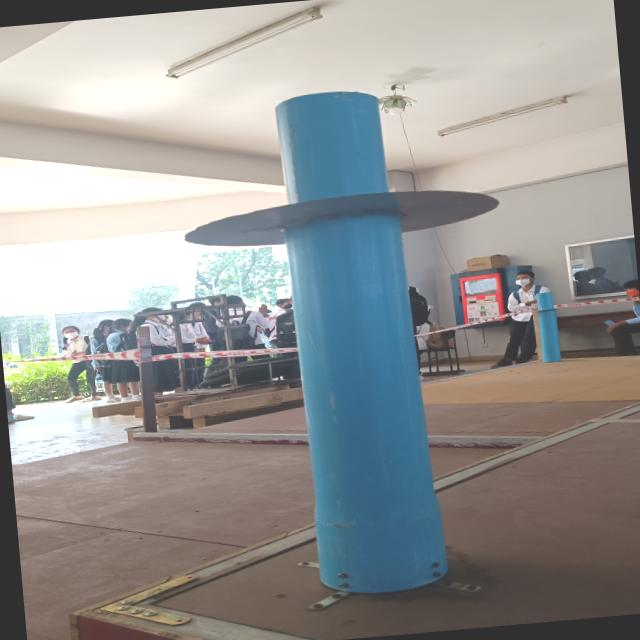pole: (148, 60, 540, 378)
